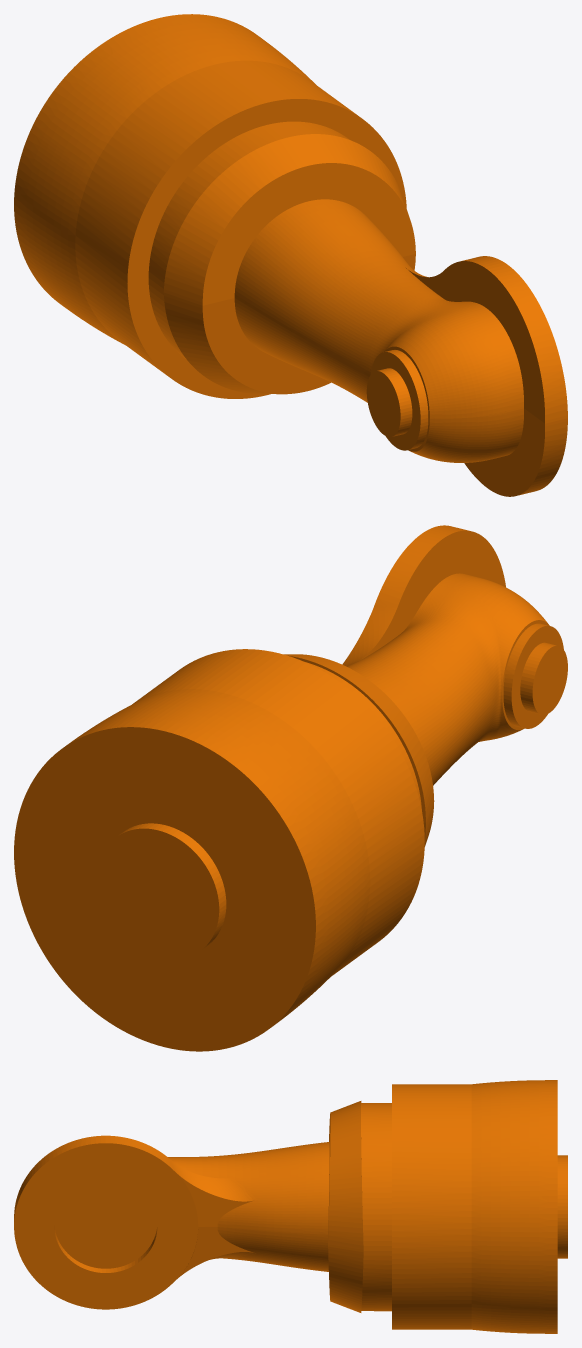
File: KR210_3100_ultra_A4.dae
The picture shows the model from 3 angles, top to bottom: view 1: azimuth 30°, elevation 25°; view 2: azimuth 150°, elevation 25°; view 3: azimuth 270°, elevation 25°; orthographic projection. The views are drawn at different scales.
Parts seen in each view (by area): view 1: KR 210 3100 ultra A4; view 2: KR 210 3100 ultra A4; view 3: KR 210 3100 ultra A4.
Part boxes in pixels (x1,y1,x2,y2): KR 210 3100 ultra A4: [14, 14, 567, 496]; KR 210 3100 ultra A4: [14, 525, 567, 1051]; KR 210 3100 ultra A4: [14, 1080, 567, 1333].
Size of the model in its own units: 0.246 by 0.5371 by 0.2475.
